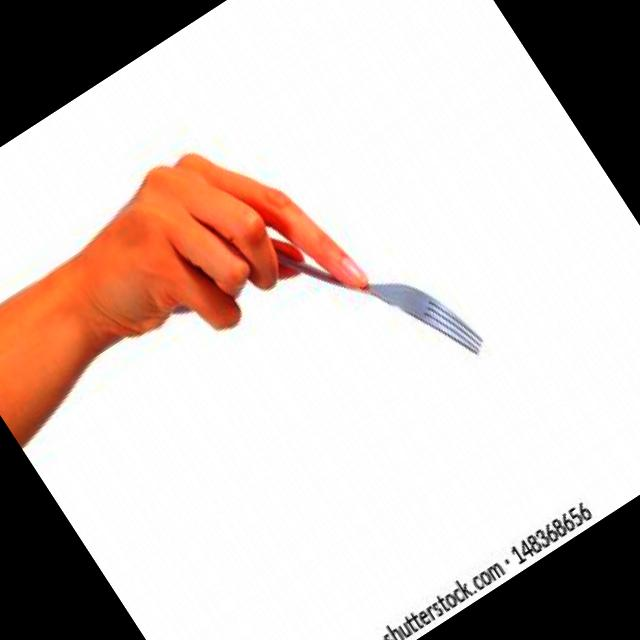fork: (196, 131, 494, 449)
